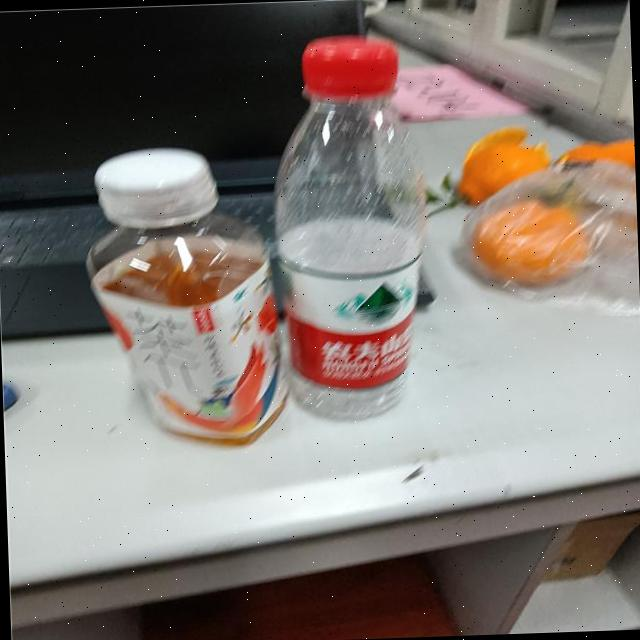orange-peel: (469, 194, 591, 288)
